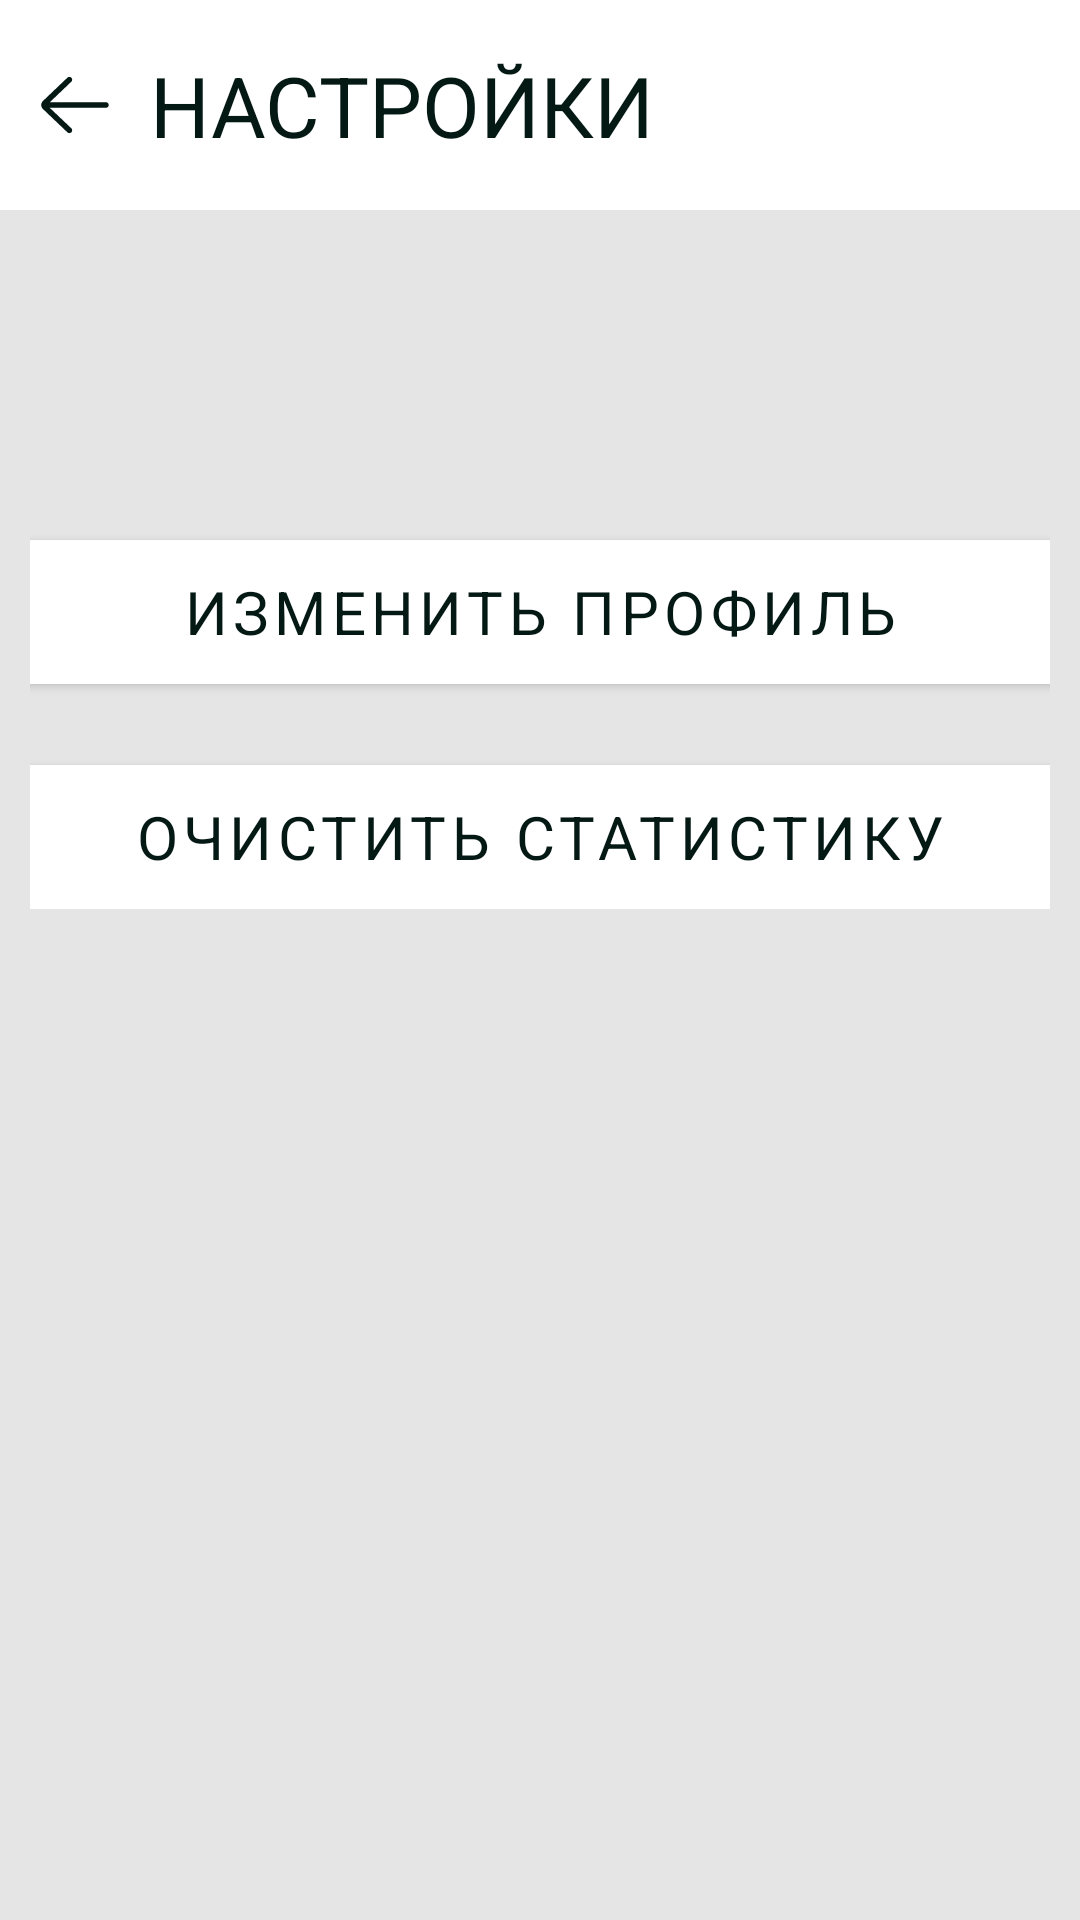

Icon click points for this 1080px×1920px phone screenshot, format point (x, y):
left arrow: point (75, 105)
